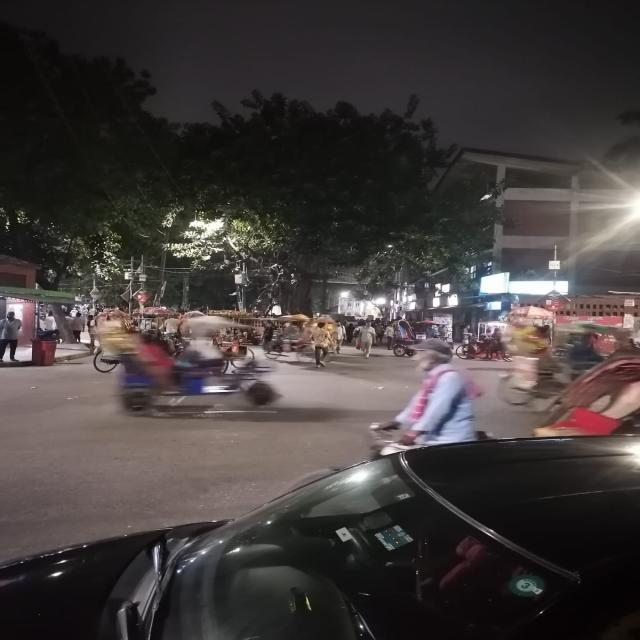person: (311, 322, 334, 368), (358, 321, 376, 358)
